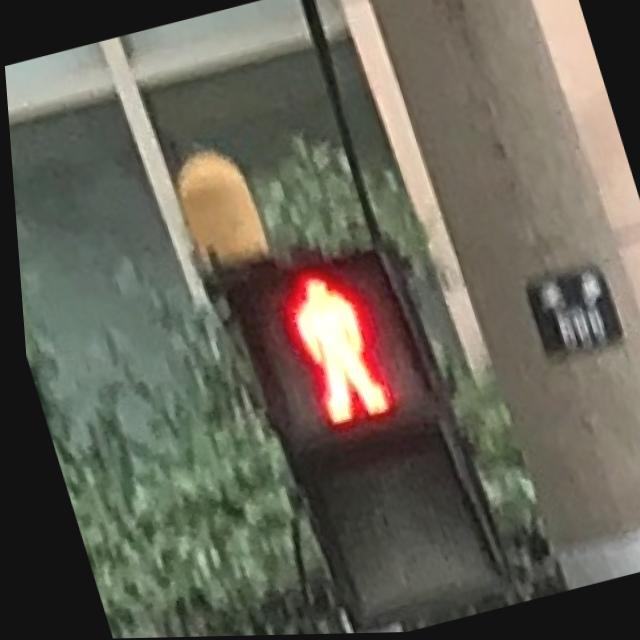red_light: (246, 244, 423, 447)
